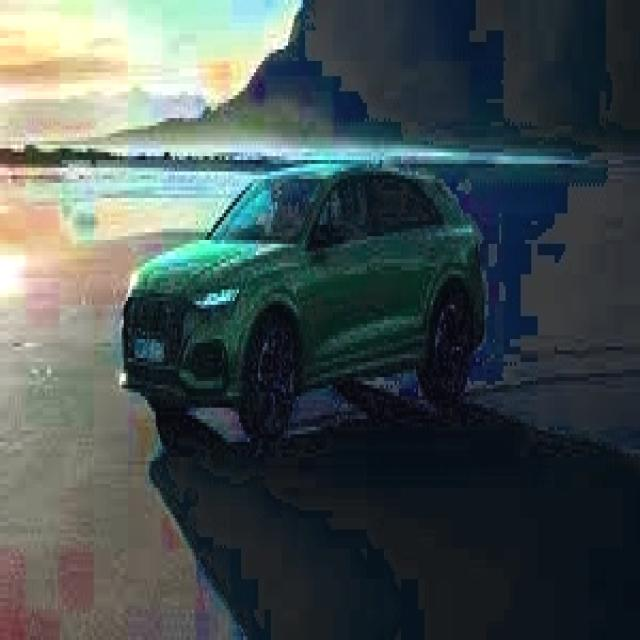green: (120, 152, 484, 446)
